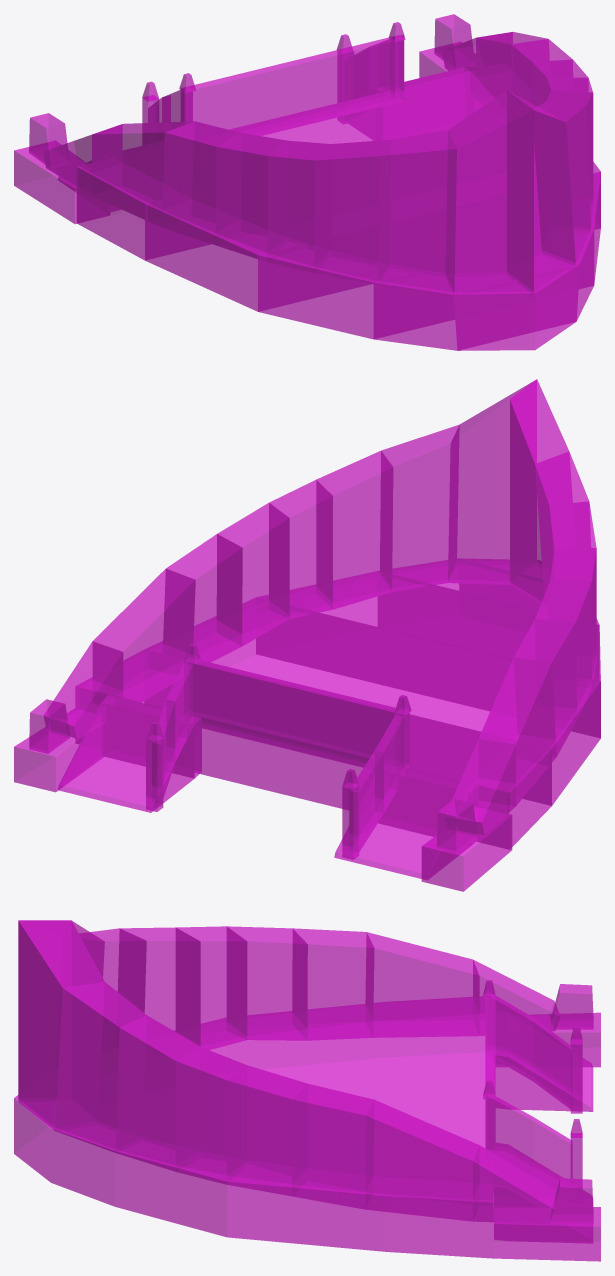
Rendered from SM_Veh_Ship_L_Front_03_Collision.fbx.
The picture shows the model from 3 angles, top to bottom: view 1: azimuth 30°, elevation 25°; view 2: azimuth 150°, elevation 25°; view 3: azimuth 270°, elevation 25°; orthographic projection. The views are drawn at different scales.
Parts seen in each view (by area): view 1: SM_Veh_Ship_L_Front_03_Collision; view 2: SM_Veh_Ship_L_Front_03_Collision; view 3: SM_Veh_Ship_L_Front_03_Collision.
Part boxes in pixels (bbox=[...]): SM_Veh_Ship_L_Front_03_Collision: bbox=[14, 14, 600, 350]; SM_Veh_Ship_L_Front_03_Collision: bbox=[14, 379, 600, 891]; SM_Veh_Ship_L_Front_03_Collision: bbox=[14, 920, 600, 1261].
Bounding box in the file's own units: 1048 × 543 × 1213.
